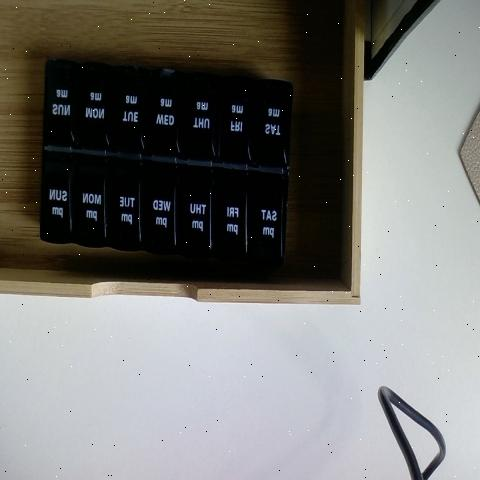FRI-am: (218, 75, 252, 163)
FRI-pm: (216, 168, 250, 253)
MON-am: (77, 66, 111, 156)
MON-pm: (76, 162, 114, 245)
SAT-am: (250, 81, 291, 169)
SAT-pm: (250, 171, 286, 263)
SUN-am: (43, 62, 77, 160)
SUN-pm: (42, 160, 77, 244)
THU-am: (184, 67, 218, 159), (112, 68, 143, 158)
THU-pm: (177, 162, 213, 258)
TUE-pm: (108, 165, 143, 247)
WED-am: (147, 67, 184, 155)
WED-pm: (143, 161, 179, 253)
